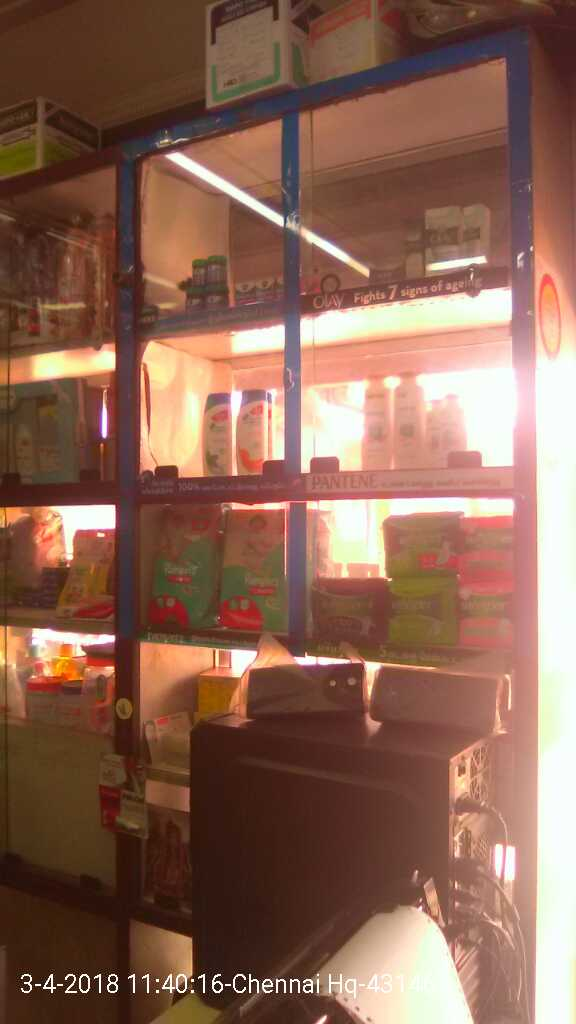vicks: (183, 253, 285, 299)
